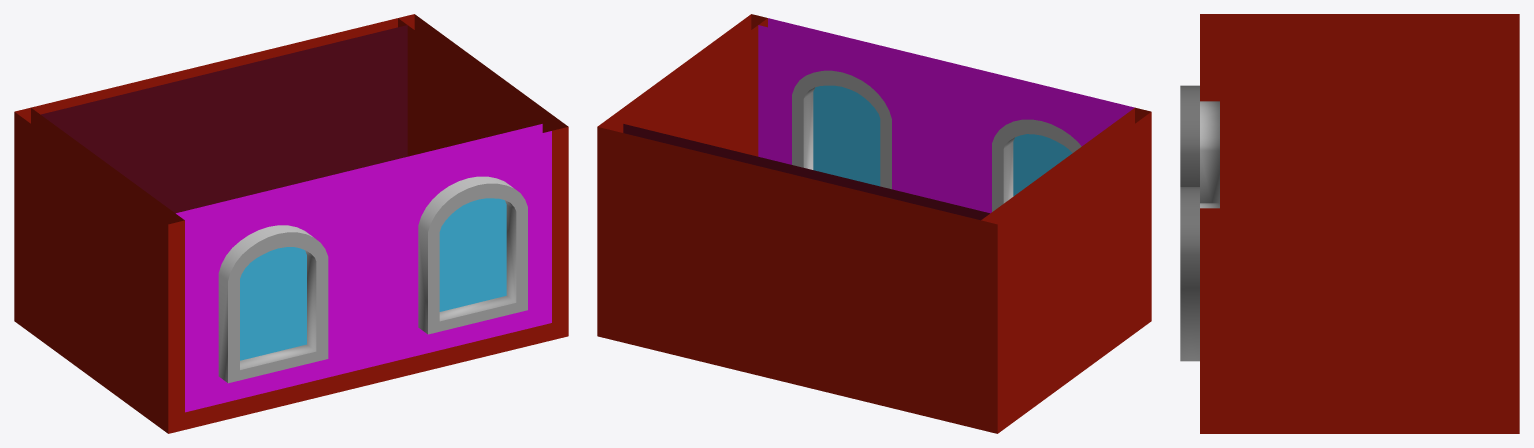
File: arch_room.glb
3 views of the same model, side by side, from view 1: azimuth 30°, elevation 25°; view 2: azimuth 150°, elevation 25°; view 3: azimuth 270°, elevation 25° (orthographic). The views are drawn at different scales.
Visible parts, largest first — view 1: mesh, windows, opening-left, opening-right; view 2: mesh, opening-left, windows, opening-right; view 3: mesh, opening-right, opening-left.
Part boxes in pixels (x1,y1,x2,y2): mesh: (14,14,568,433); windows: (240,198,506,360); opening-left: (53,210,129,387); opening-right: (436,117,486,149); mesh: (597,14,1151,433); opening-left: (1036,210,1112,387); windows: (813,85,1072,196); opening-right: (679,117,729,149); mesh: (1180,14,1519,433); opening-right: (1280,271,1439,415); opening-left: (1280,77,1439,208).
Bounding box in the file's own units: 12 × 6 × 8.5.
